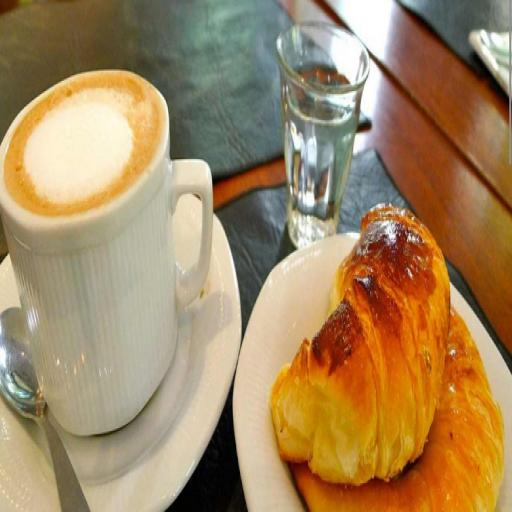bolleria: (271, 206, 450, 484), (290, 307, 504, 511)
